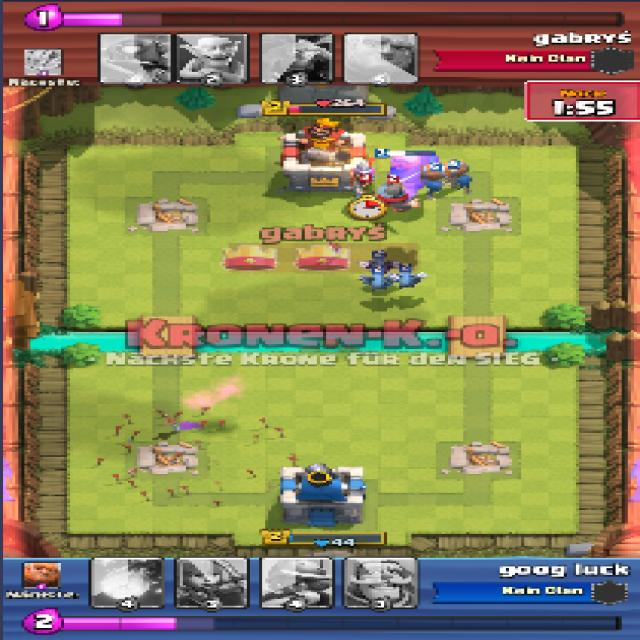Enemy-Knight: (378, 171, 424, 212)
Enemy-Musketeer: (352, 163, 377, 199)
Player-Arrow: (92, 406, 296, 510)
Player-Giant: (378, 149, 444, 192)
Player-Minion: (363, 271, 392, 290), (393, 268, 420, 288), (366, 257, 397, 273)
Player-Wallbreaker: (445, 158, 473, 193), (422, 162, 447, 195)
